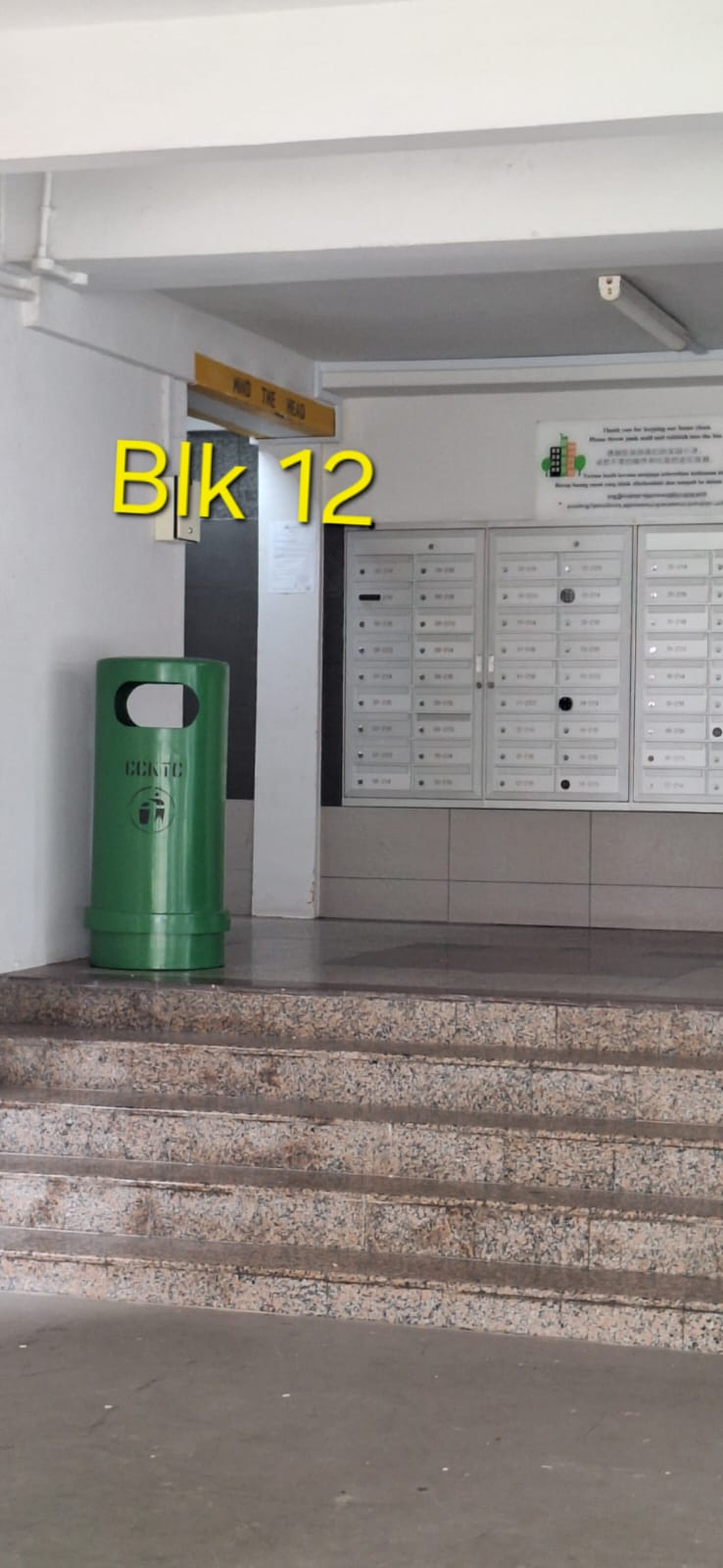bin_empty: (85, 658, 229, 969)
